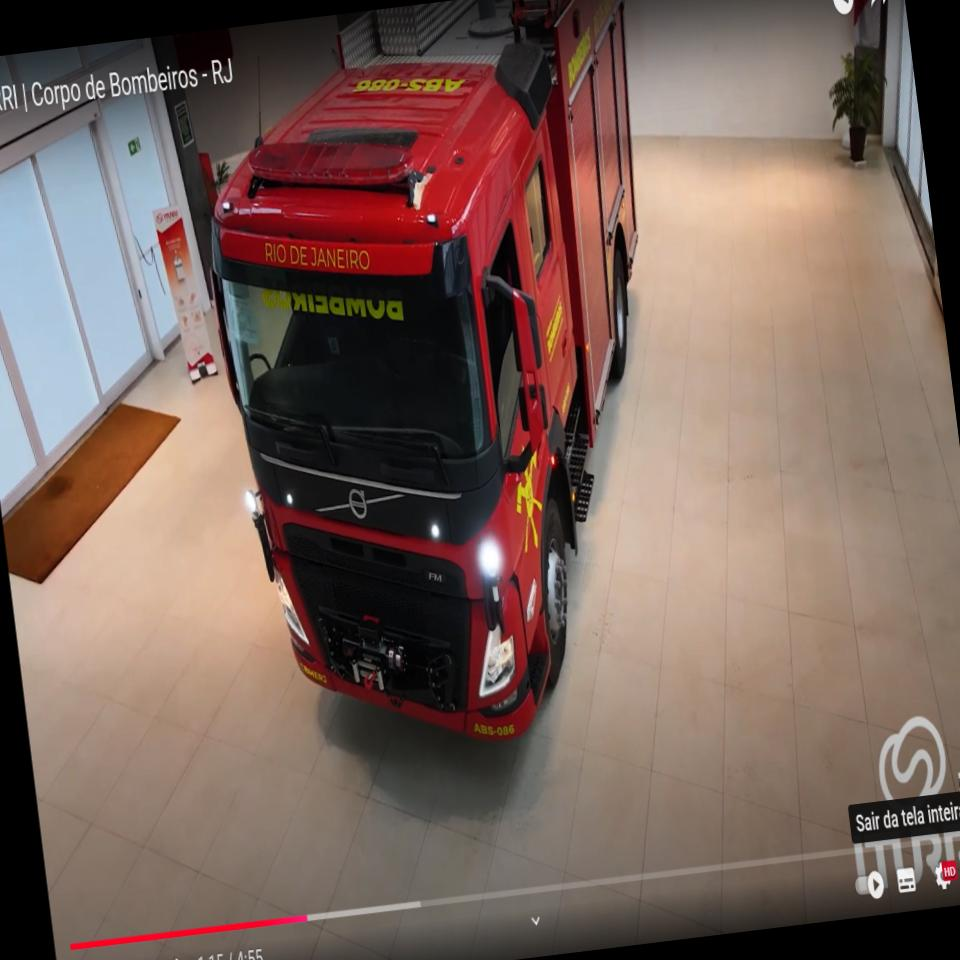viatura: (182, 0, 712, 772)
